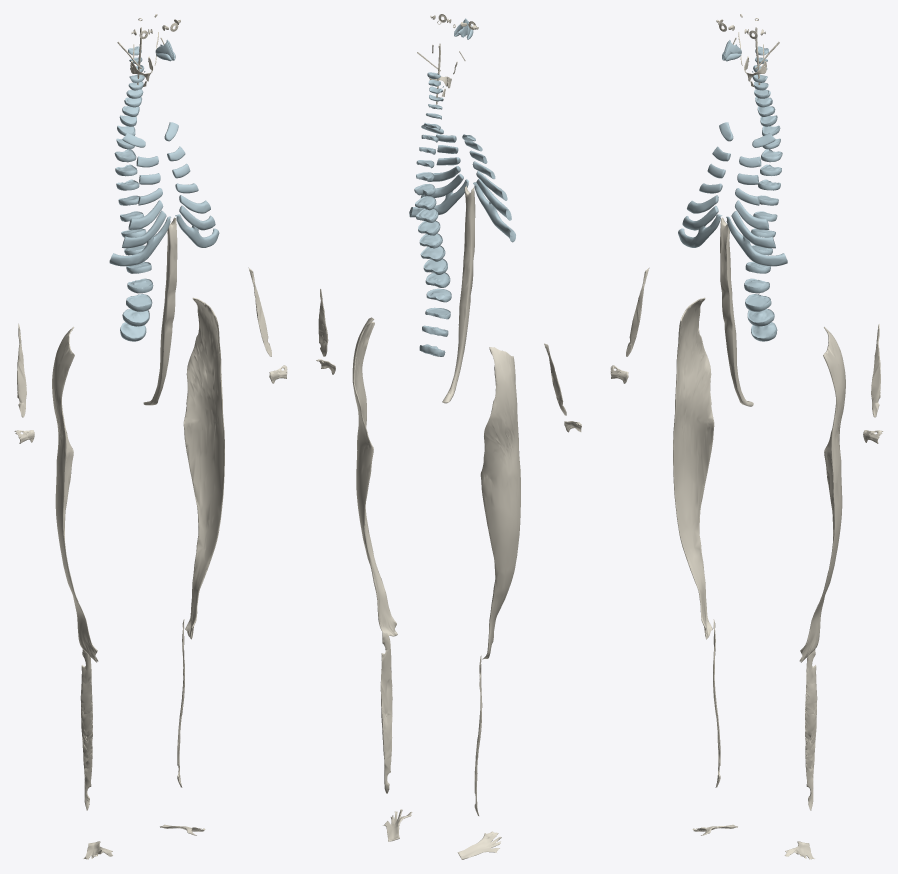
File: articulacoes.glb
3 views of the same model, side by side, from view 1: azimuth 30°, elevation 25°; view 2: azimuth 150°, elevation 25°; view 3: azimuth 330°, elevation 25° (orthographic). The views are drawn at different scales.
Visible parts, largest first — view 1: FMA58777, FMA58776, FMA11336, FMA35192, FMA8248, FMA23707, FMA8275; view 2: FMA58776, FMA58777, FMA11336, FMA35193, FMA44249, FMA8248, FMA8275; view 3: FMA58776, FMA58777, FMA11336, FMA35193, FMA8275, FMA23708, FMA8248.
Part boxes in pixels (left/top/right/bottom): FMA58777: left=183, top=297, right=224, bottom=639; FMA58776: left=52, top=326, right=98, bottom=662; FMA11336: left=143, top=217, right=177, bottom=405; FMA35192: left=80, top=649, right=92, bottom=810; FMA8248: left=109, top=216, right=171, bottom=266; FMA23707: left=17, top=323, right=26, bottom=417; FMA8275: left=175, top=214, right=219, bottom=247; FMA58776: left=480, top=347, right=520, bottom=659; FMA58777: left=352, top=317, right=397, bottom=636; FMA11336: left=442, top=185, right=475, bottom=403; FMA35193: left=380, top=631, right=392, bottom=793; FMA44249: left=457, top=831, right=501, bottom=859; FMA8248: left=473, top=182, right=515, bottom=242; FMA8275: left=409, top=179, right=468, bottom=217; FMA58776: left=673, top=297, right=714, bottom=639; FMA58777: left=799, top=327, right=845, bottom=662; FMA11336: left=720, top=217, right=753, bottom=406; FMA35193: left=805, top=649, right=817, bottom=810; FMA8275: left=726, top=216, right=787, bottom=266; FMA23708: left=871, top=324, right=880, bottom=417; FMA8248: left=678, top=214, right=722, bottom=247.
Bounding box in the file's own units: 0.5418 × 1.59 × 0.1826.
